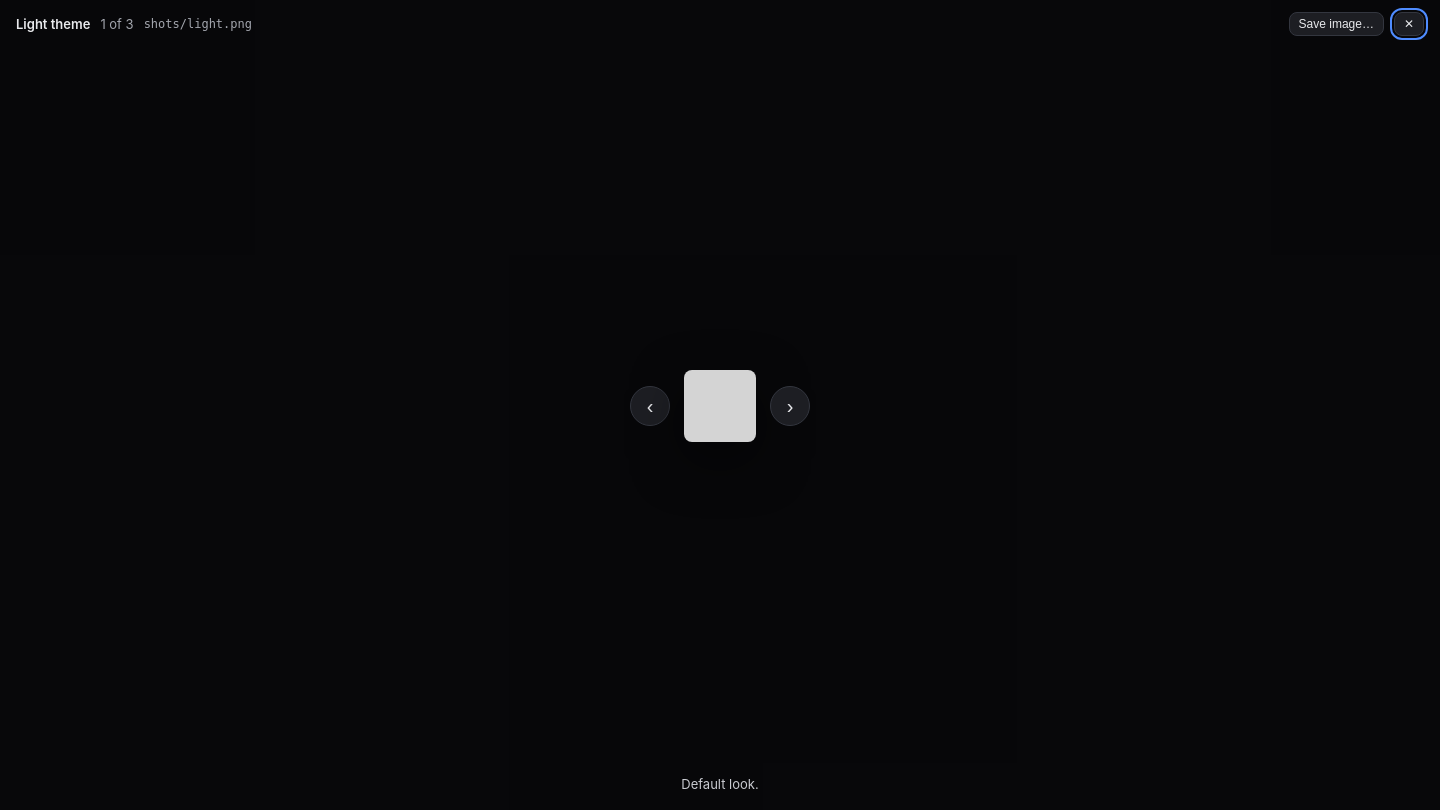
Test: ImageViewer actions › says so when copying or saving fails outright
This screenshot has width=1440, height=810.
Click the button "Save image…" at (1336, 24), box [1289, 12, 1384, 36]
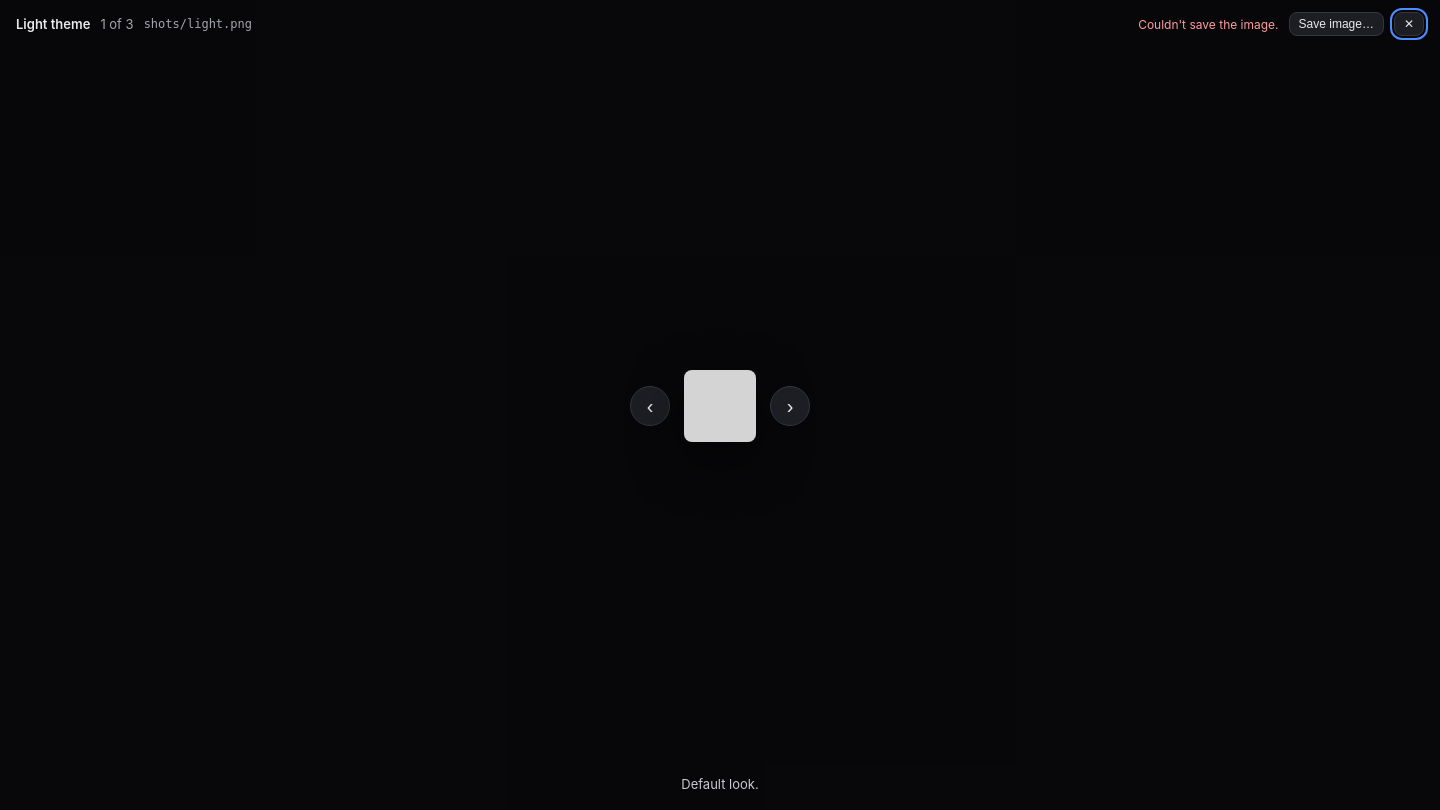
Check: the message reads "Couldn't save the image.", box [1138, 16, 1278, 32]
